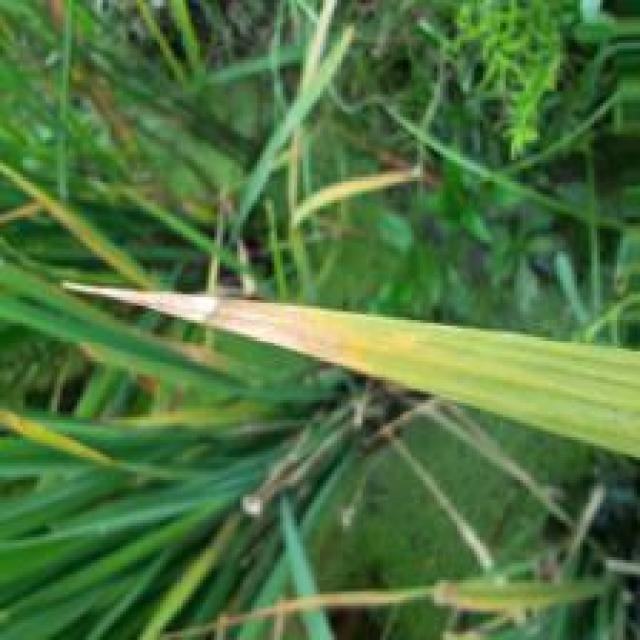Leaf_Scald: (64, 282, 441, 380)
